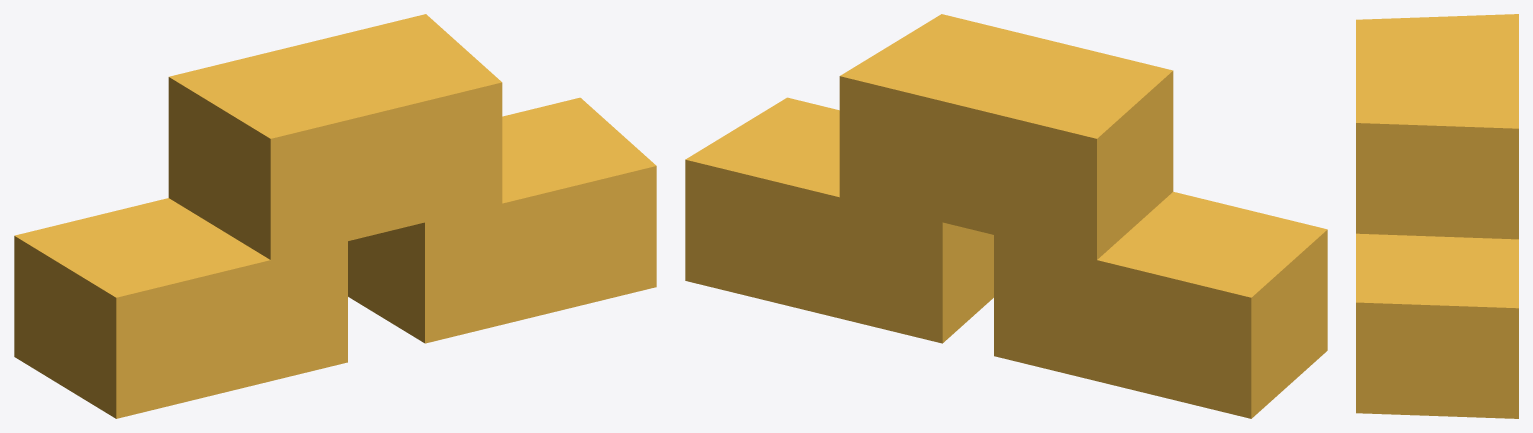
File: loot_gold.obj
The picture shows the model from 3 angles, left to right: view 1: azimuth 30°, elevation 25°; view 2: azimuth 150°, elevation 25°; view 3: azimuth 270°, elevation 25°; orthographic projection. The views are drawn at different scales.
Visible parts, largest first — view 1: loot_gold; view 2: loot_gold; view 3: loot_gold.
Part boxes in pixels (x1,y1,x2,y2): loot_gold: [14, 14, 656, 418]; loot_gold: [685, 14, 1327, 418]; loot_gold: [1356, 14, 1518, 418].
Bounding box in the file's own units: 0.22 × 0.09 × 0.06.
